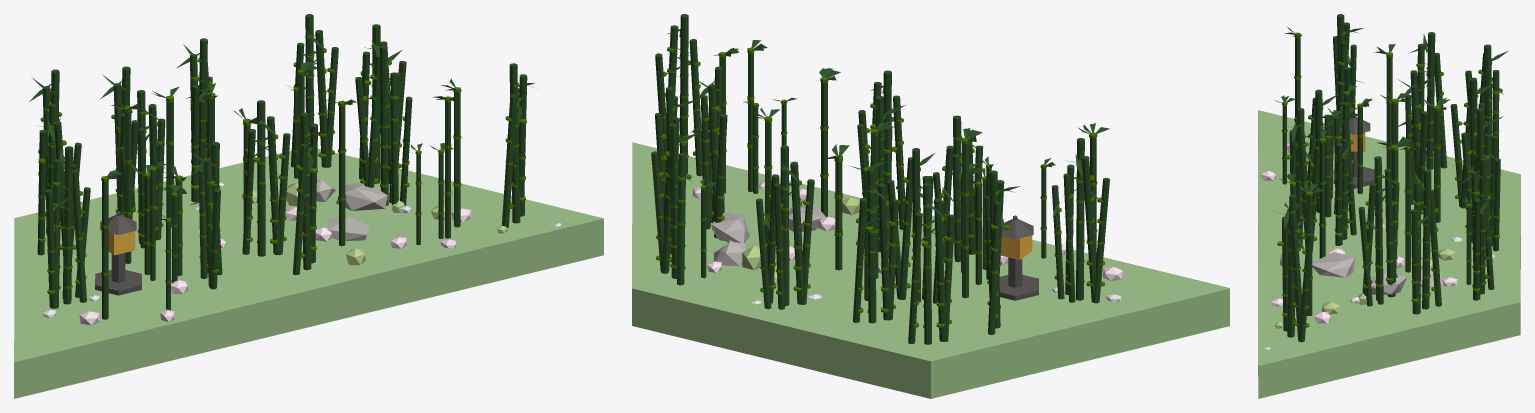
Rendered from bamboo_half_sprint2_tryfix.glb.
3 renders of one model, left to right at view 1: azimuth 30°, elevation 25°; view 2: azimuth 150°, elevation 25°; view 3: azimuth 270°, elevation 25°, orthographic. The views are drawn at different scales.
Parts seen in each view (by area): view 1: Cylinder.002, Low Poly Bamboo Stalk.125, Low Poly Bamboo Stalk.165, Low Poly Bamboo Stalk.131, Low Poly Bamboo Stalk.166, Low Poly Bamboo Stalk.162, Rock_3.001, Low Poly Bamboo Stalk.140, Low Poly Bamboo Stalk.144, Low Poly Bamboo Stalk.124, Low Poly Bamboo Stalk.141, Low Poly Bamboo Stalk.145 (+38 smaller); view 2: Cylinder.002, Low Poly Bamboo Stalk.169, Low Poly Bamboo Stalk.149, Low Poly Bamboo Stalk.125, Low Poly Bamboo Stalk.161, Low Poly Bamboo Stalk.141, Low Poly Bamboo Stalk.138, Low Poly Bamboo Stalk.137, Low Poly Bamboo Stalk.170, BambooStalk_1_2.001, Low Poly Bamboo Stalk.120, Low Poly Bamboo Stalk.150 (+42 smaller); view 3: Cylinder.002, Low Poly Bamboo Stalk.157, Low Poly Bamboo Stalk.153, Low Poly Bamboo Stalk.165, Low Poly Bamboo Stalk.161, Rock_5.001, Low Poly Bamboo Stalk.132, Low Poly Bamboo Stalk.142, Low Poly Bamboo Stalk.141, BambooStalk_2_3.006, Low Poly Bamboo Stalk.143, Low Poly Bamboo Stalk.128 (+52 smaller).
Part boxes in pixels (x1,y1,x2,y2): Cylinder.002: (14,148,603,398); Low Poly Bamboo Stalk.125: (63,146,73,304); Low Poly Bamboo Stalk.165: (257,100,265,256); Low Poly Bamboo Stalk.131: (380,45,388,205); Low Poly Bamboo Stalk.166: (267,116,279,254); Low Poly Bamboo Stalk.162: (315,30,328,167); Rock_3.001: (336,183,387,210); Low Poly Bamboo Stalk.140: (502,94,517,227); Low Poly Bamboo Stalk.144: (293,143,308,275); Low Poly Bamboo Stalk.124: (72,169,86,302); Low Poly Bamboo Stalk.141: (509,63,520,223); Low Poly Bamboo Stalk.145: (300,112,311,270); Cylinder.002: (632,142,1229,398); Low Poly Bamboo Stalk.169: (923,183,931,344); Low Poly Bamboo Stalk.149: (867,168,876,323); Low Poly Bamboo Stalk.125: (1076,138,1084,300); Low Poly Bamboo Stalk.161: (669,123,678,278); Low Poly Bamboo Stalk.141: (680,14,688,174); Low Poly Bamboo Stalk.138: (790,161,803,304); Low Poly Bamboo Stalk.137: (780,145,789,306); Low Poly Bamboo Stalk.170: (934,198,945,341); BambooStalk_1_2.001: (962,143,968,298); Low Poly Bamboo Stalk.120: (898,157,912,299); Low Poly Bamboo Stalk.150: (878,183,890,320); Cylinder.002: (1258,110,1520,398); Low Poly Bamboo Stalk.157: (1422,169,1431,309); Low Poly Bamboo Stalk.153: (1426,32,1435,169); Low Poly Bamboo Stalk.165: (1342,102,1349,239); Low Poly Bamboo Stalk.161: (1479,157,1487,294); Rock_5.001: (1312,252,1354,277); Low Poly Bamboo Stalk.132: (1384,168,1393,297); Low Poly Bamboo Stalk.142: (1289,211,1301,339); Low Poly Bamboo Stalk.141: (1287,194,1296,337); BambooStalk_2_3.006: (1319,143,1325,258); Low Poly Bamboo Stalk.143: (1298,233,1313,342); Low Poly Bamboo Stalk.128: (1375,190,1383,304).
Bounding box in the file's own units: 5 × 1.6 × 2.17.
